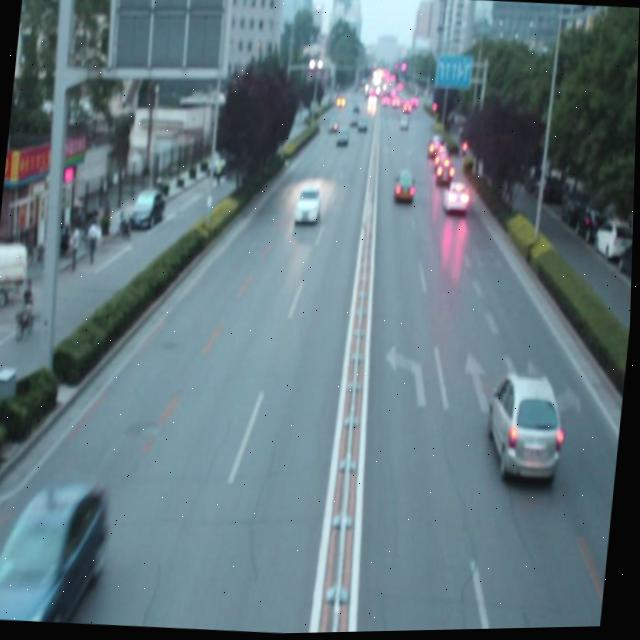car: (0, 474, 113, 626), (485, 368, 570, 485), (294, 184, 323, 228), (442, 179, 472, 214), (393, 165, 417, 204)
